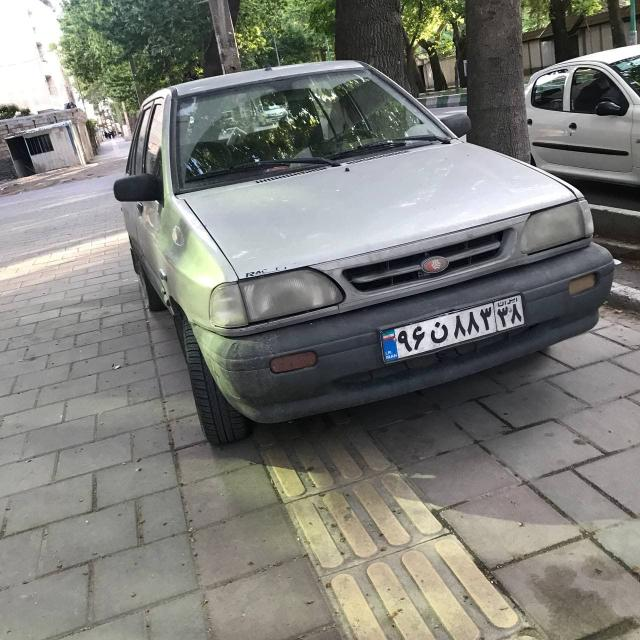Plates: (377, 293, 528, 362)
